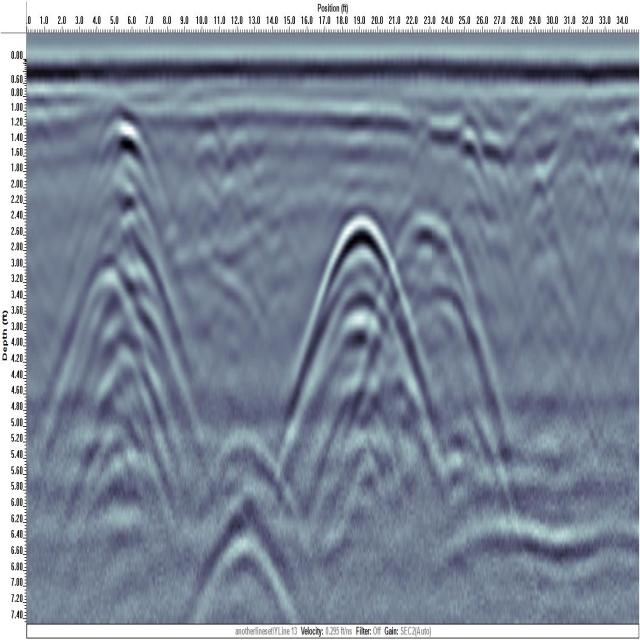hyperbola: (374, 190, 483, 386), (306, 205, 418, 335)
